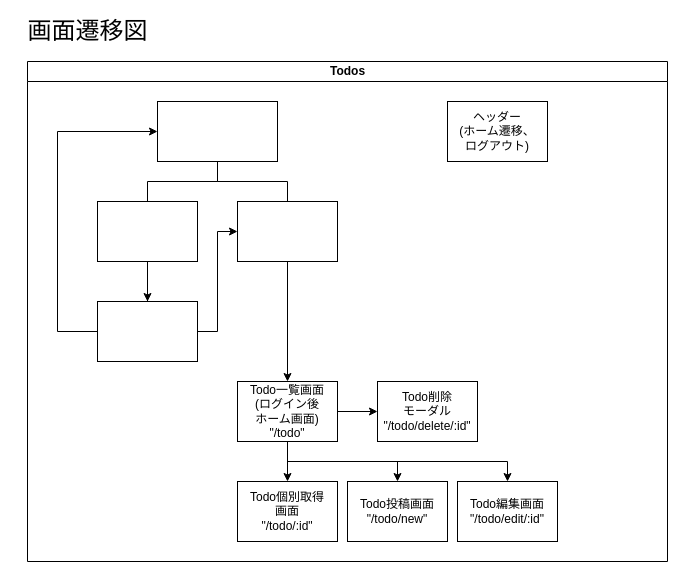
This 685x579 diagram has some shape labels left out. Here are the shapes that lost their labels. From the top down, the centre of each, then its label:
[217,131]: ホーム画面 "/"
[147,231]: 新規登録画面 "/signup"
[287,231]: ログイン画面 "/signin"
[147,331]: 新規登録結果画面 "/signup/result"
